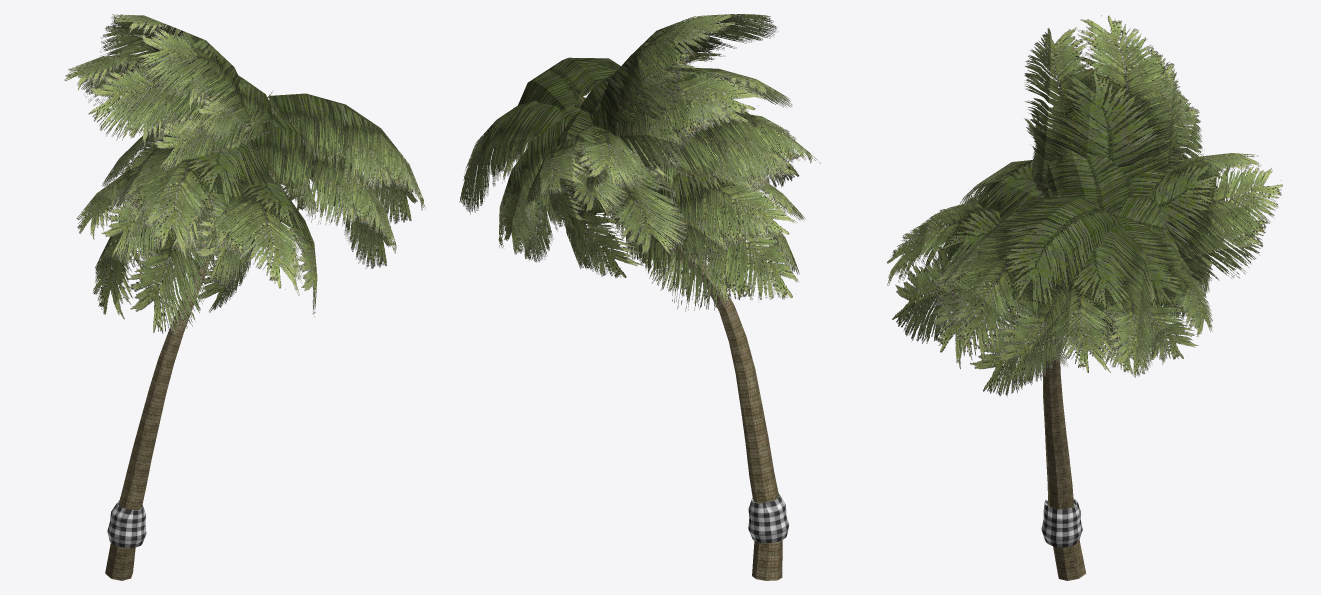
File: pohon.fbx
3 renders of one model, left to right at view 1: azimuth 30°, elevation 25°; view 2: azimuth 150°, elevation 25°; view 3: azimuth 270°, elevation 25°, orthographic. The views are drawn at different scales.
Visible parts, largest first — view 1: Palmera.002; view 2: Palmera.002; view 3: Palmera.002.
Boxes of the visible parts, x1,y1,x2,y2 form: Palmera.002: (64, 14, 425, 580); Palmera.002: (459, 14, 820, 580); Palmera.002: (885, 15, 1282, 580).
Size of the model in its own units: 878 by 1380 by 931.
Materials: 2 (2 with a texture image).
